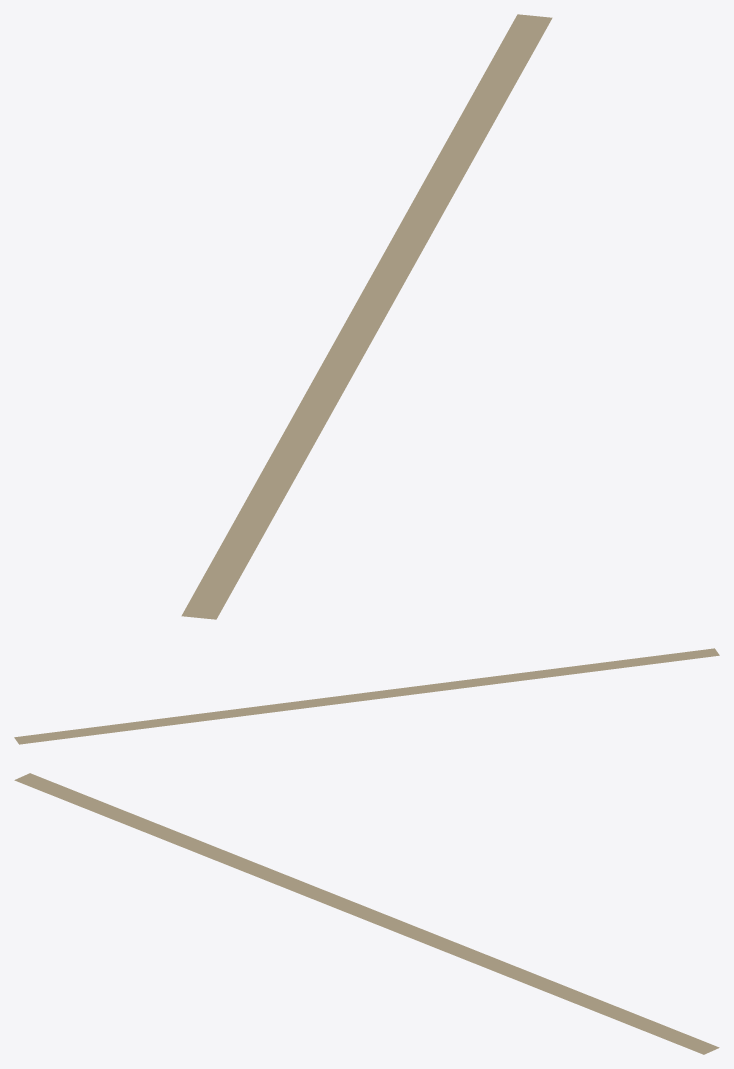
3 renders of one model, top to bottom at view 1: azimuth 30°, elevation 25°; view 2: azimuth 150°, elevation 25°; view 3: azimuth 270°, elevation 25°, orthographic. The views are drawn at different scales.
Visible parts, largest first — view 1: path; view 2: path; view 3: path.
Boxes of the visible parts, box(x1,y1,x2,y2) form: path: box(181, 14, 552, 619); path: box(14, 648, 719, 744); path: box(14, 773, 719, 1054).
Size of what is drawn, in the model's own units: 42.76 by 0 by 45.28.
